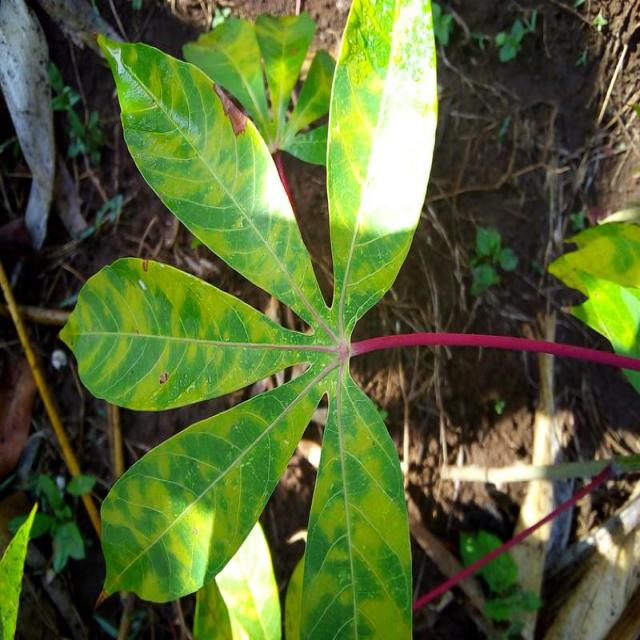cassava leaf: (59, 1, 442, 637), (96, 31, 332, 330), (96, 355, 338, 606), (58, 255, 316, 412), (326, 0, 440, 335), (300, 360, 414, 638), (548, 215, 640, 394)
